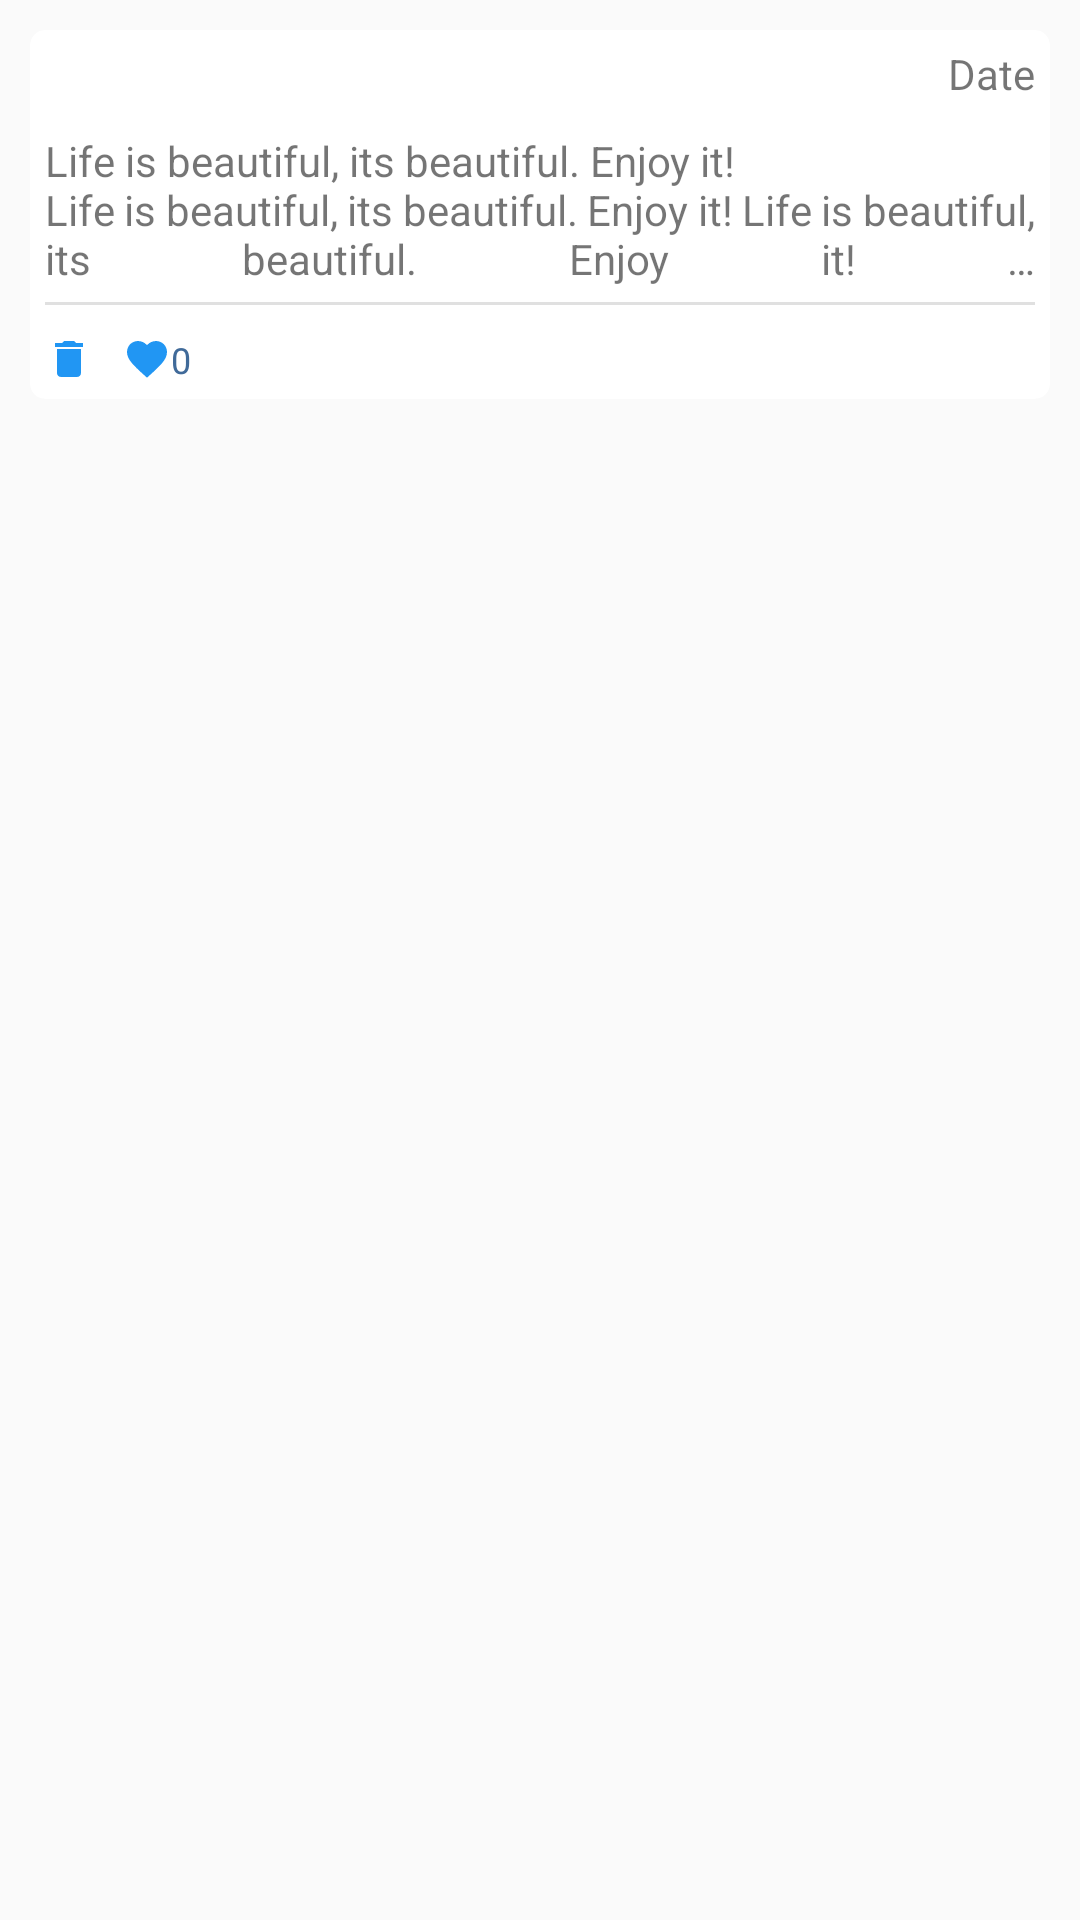

Locate icon controls on the screen. Image size 1080px×1920px, boxes as box=[x1, y1, x2, y2].
Delete button: box=[55, 341, 83, 377]
Like button: box=[127, 341, 167, 378]
